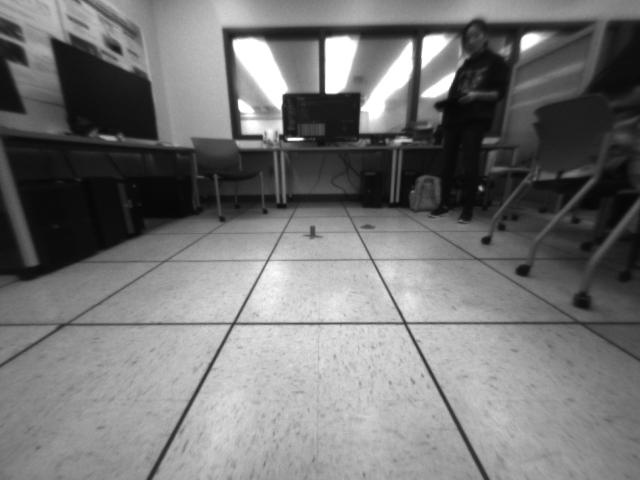X: (302, 224, 324, 241)
